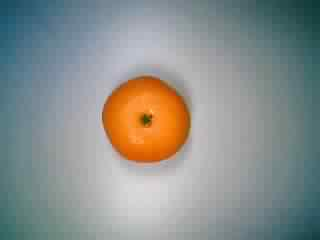orange: (98, 66, 193, 168)
